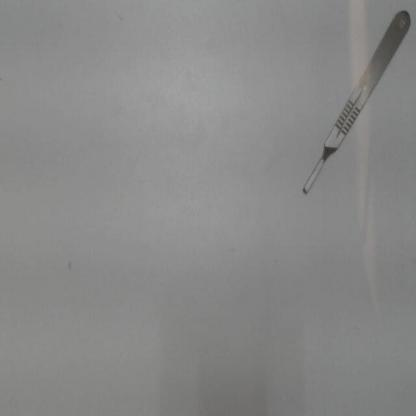No.4 BP Handle: (296, 6, 414, 203)
